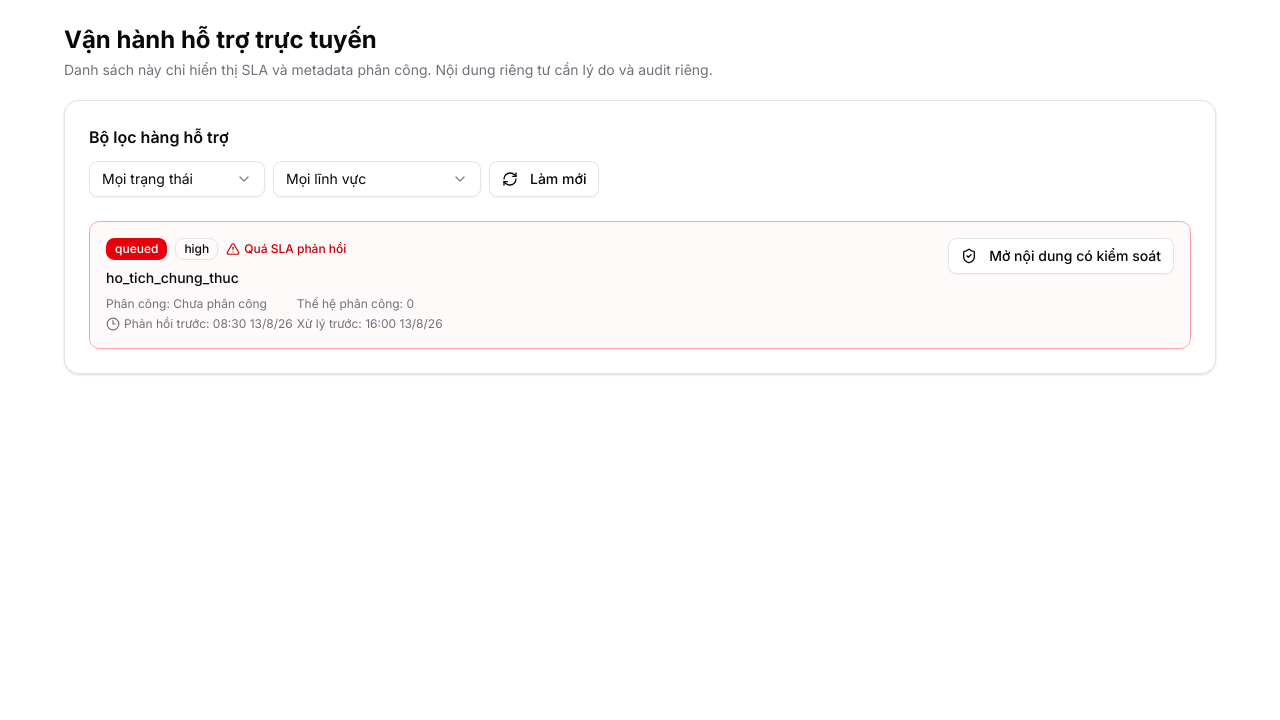
Test: AdminSupportPage › shows SLA metadata but gates private content behind a reason and audit request
Expected: the text "Quá SLA phản hồi" is shown, [226,241,346,257]
Expected: the text "Nội dung chỉ hiện sau audit" is not shown
Click the button "Mở nội dung có kiểm soát": (1061, 256) [948,238,1174,274]
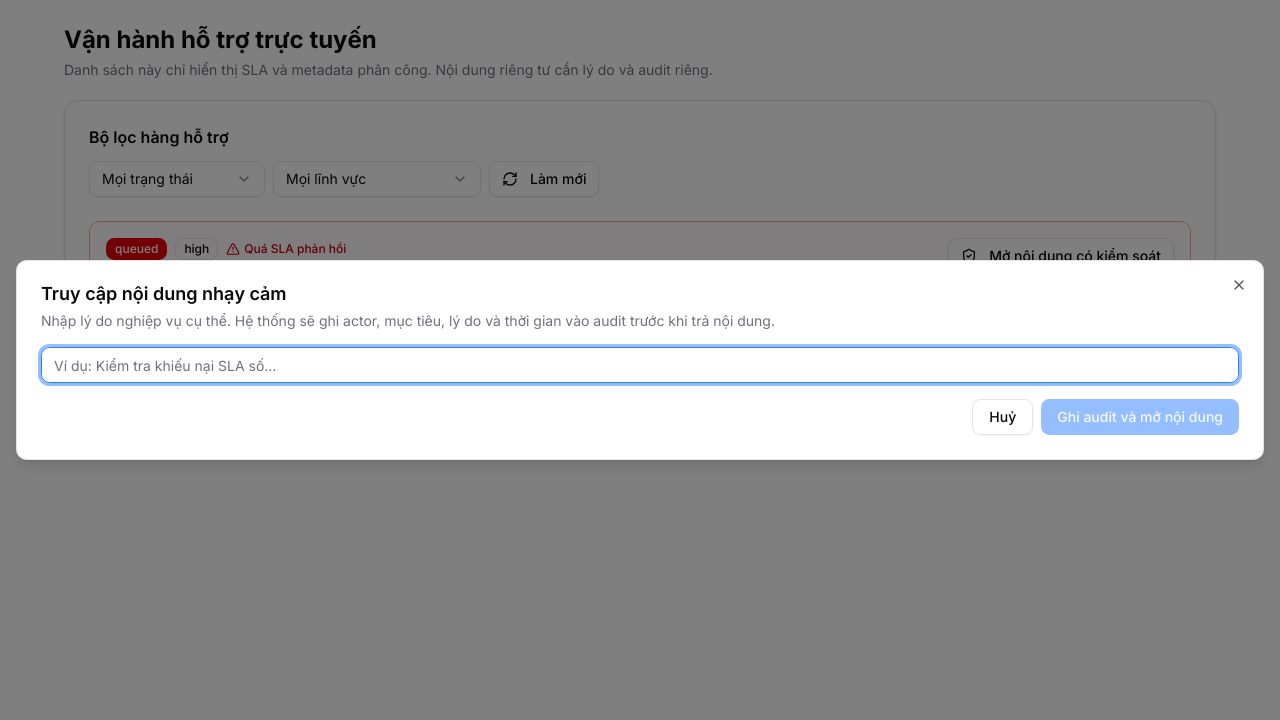
Expected: the button "Ghi audit và mở nội dung" is disabled, [1041,399,1239,435]
In the field named "Lý do truy cập": (640, 365) [41,347,1239,383], type "Kiểm tra khiếu nại SLA 123"
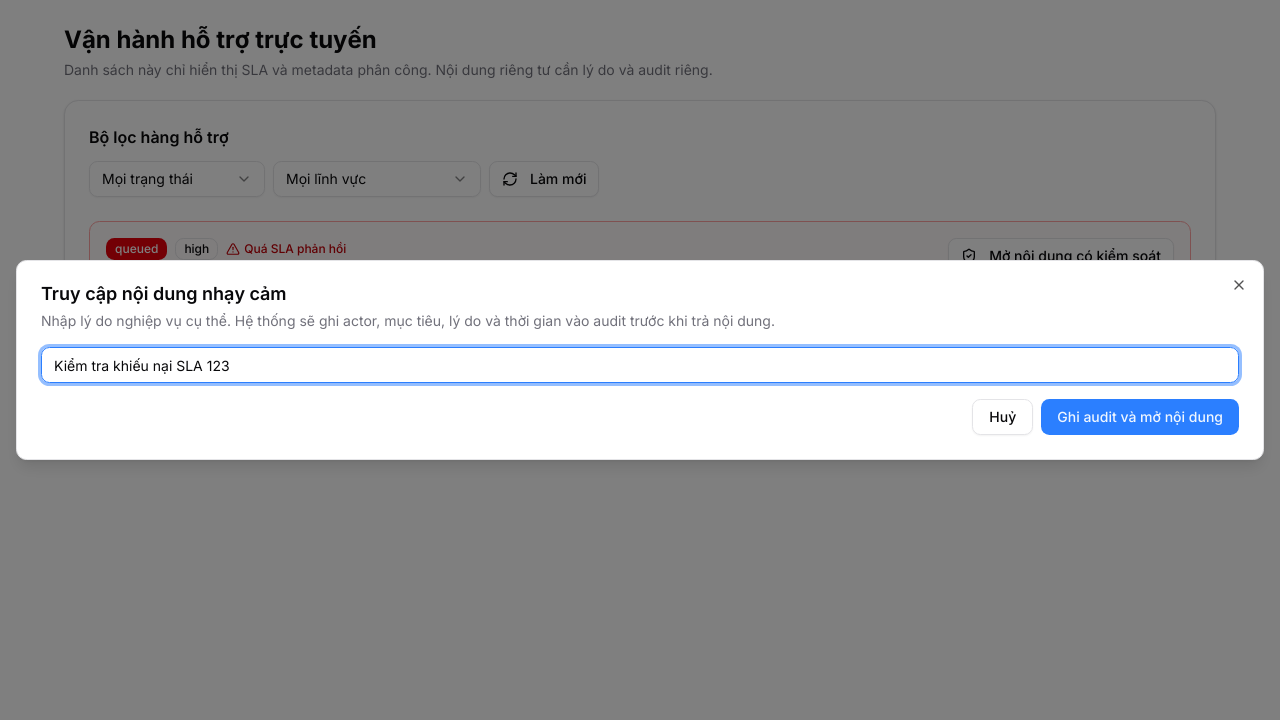
Expected: the button "Ghi audit và mở nội dung" is enabled
Click the button "Ghi audit và mở nội dung": (1140, 417) [1041,399,1239,435]
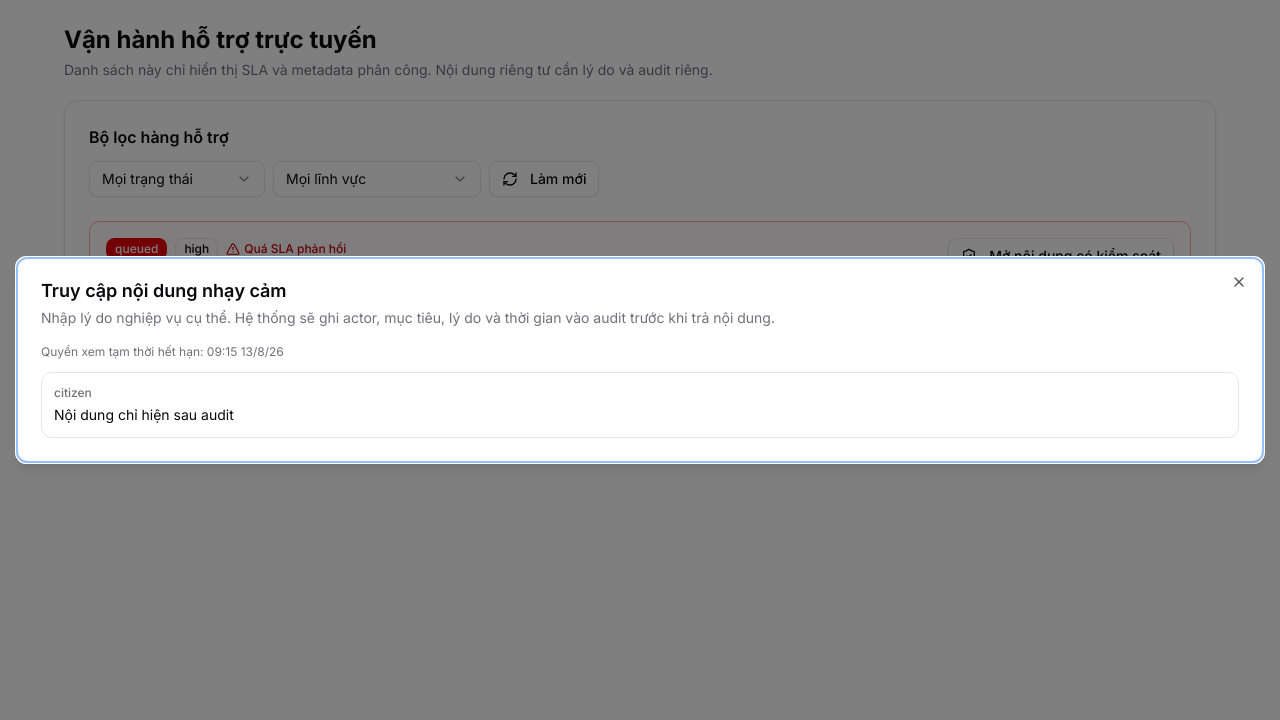
Expected: the text "Nội dung chỉ hiện sau audit" is shown, [54,406,234,423]
